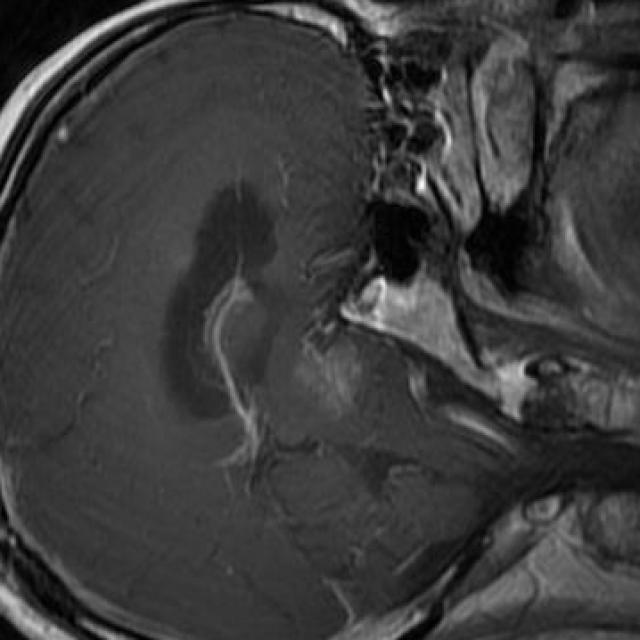glioma: (291, 326, 358, 417)
